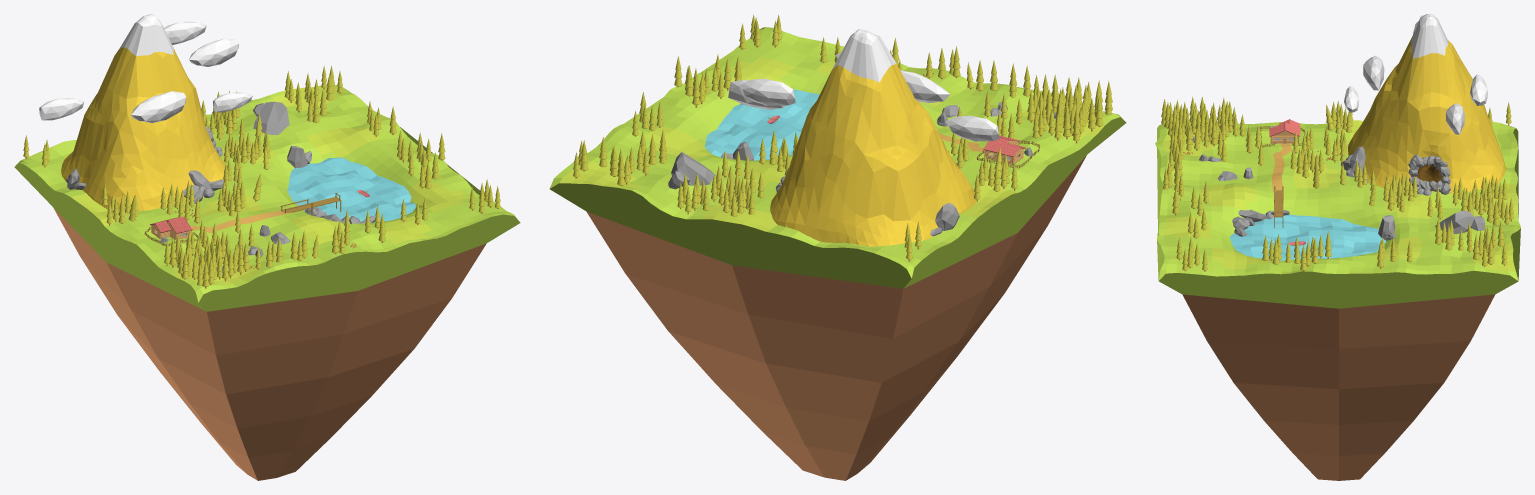
The model's file is LowPoly Nature By Edwin3D.fbx.
3 views of the same model, side by side, from view 1: azimuth 30°, elevation 25°; view 2: azimuth 150°, elevation 25°; view 3: azimuth 270°, elevation 25° (orthographic). The views are drawn at different scales.
Visible parts, largest first — view 1: Plane.000, Icosphere.003, Cube.020, Cube.006, Sphere.003, House, Icosphere.023; view 2: Plane.000, Cube.006, Cube.020, Icosphere.003, House, Sphere.003, Cube.008, Cube.010, Cube.007; view 3: Plane.000, Cube.006, Cube.020, Icosphere.003, House, Cube.008, Cube.007, Sphere.003, Cube.010, Icosphere.023.
Boxes of the visible parts, box(x1,y1,x2,y2) form: Plane.000: box(14, 14, 520, 480); Icosphere.003: box(39, 21, 252, 122); Cube.020: box(118, 196, 282, 288); Cube.006: box(284, 65, 500, 213); Sphere.003: box(253, 101, 289, 134); House: box(150, 216, 192, 239); Icosphere.023: box(183, 170, 223, 203); Plane.000: box(549, 27, 1126, 480); Cube.006: box(573, 14, 781, 185); Cube.020: box(1001, 63, 1112, 183); Icosphere.003: box(728, 53, 999, 141); House: box(983, 136, 1025, 164); Sphere.003: box(671, 152, 715, 185); Cube.008: box(677, 173, 709, 214); Cube.010: box(723, 177, 754, 216); Cube.007: box(711, 165, 741, 205); Plane.000: box(1155, 14, 1520, 480); Cube.006: box(1176, 218, 1507, 271); Cube.020: box(1161, 96, 1336, 160); Icosphere.003: box(1344, 21, 1487, 134); House: box(1269, 119, 1300, 143); Cube.008: box(1487, 194, 1513, 225); Cube.007: box(1461, 185, 1488, 216); Sphere.003: box(1434, 211, 1474, 233); Cube.010: box(1480, 174, 1507, 205); Icosphere.023: box(1341, 146, 1368, 182).
Size of the model in its own units: 2130 by 2599 by 2007.
